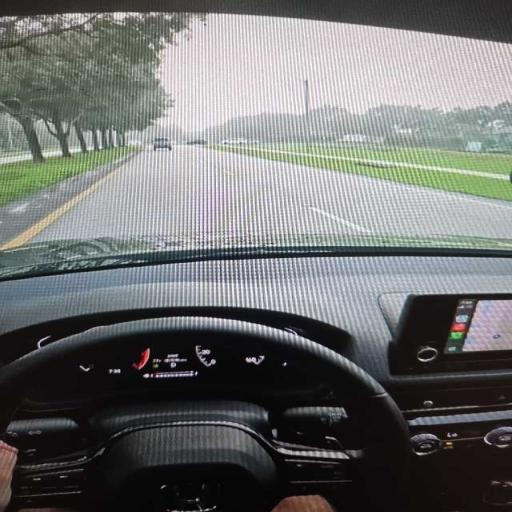car: (0, 0, 511, 511), (153, 138, 171, 150), (187, 139, 207, 145)
lane: (35, 146, 511, 240), (0, 153, 31, 164)
person: (0, 442, 17, 511)
